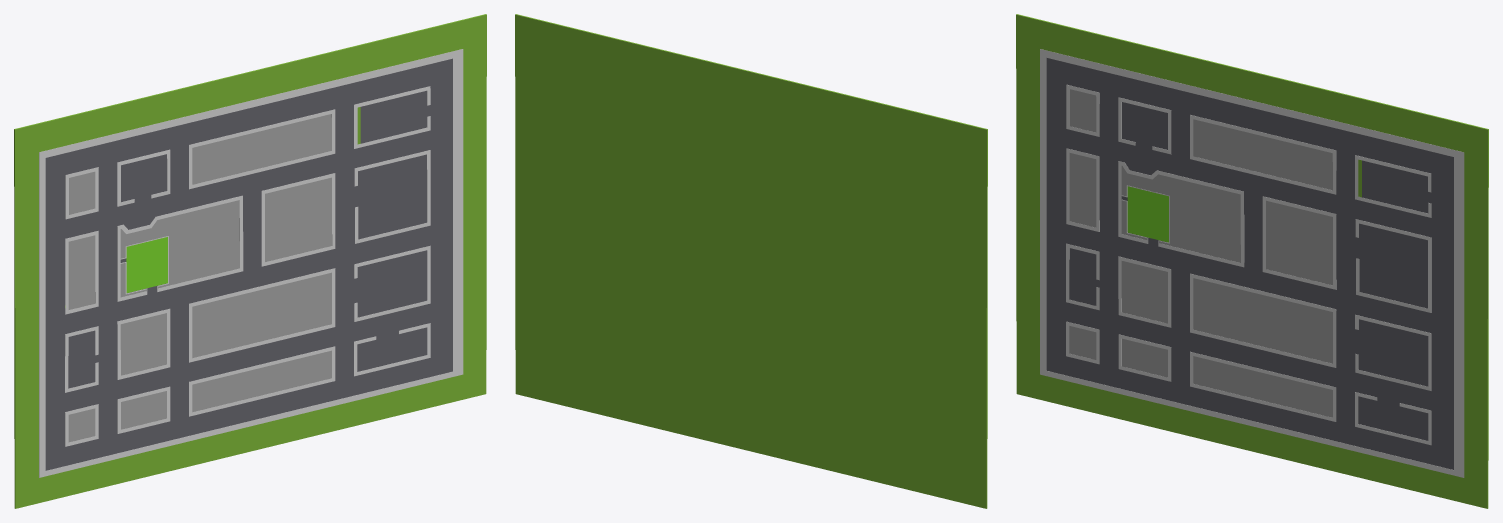
Rendered from street1_zup.glb.
3 renders of one model, left to right at view 1: azimuth 30°, elevation 25°; view 2: azimuth 150°, elevation 25°; view 3: azimuth 330°, elevation 25°, orthographic.
Visible parts, largest first — view 1: GroundRoot; view 2: GroundRoot; view 3: GroundRoot.
Part boxes in pixels (x1,y1,x2,y2): GroundRoot: (14,14,486,508); GroundRoot: (515,14,987,508); GroundRoot: (1016,14,1488,508).
Size of the model in its own units: 342 by 262 by 1.26.
